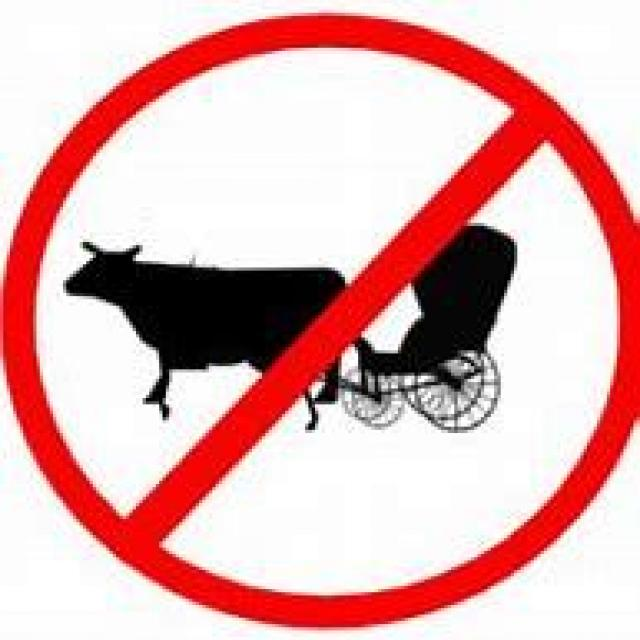BULLOCK_PROHIBITED: (0, 10, 637, 627)
